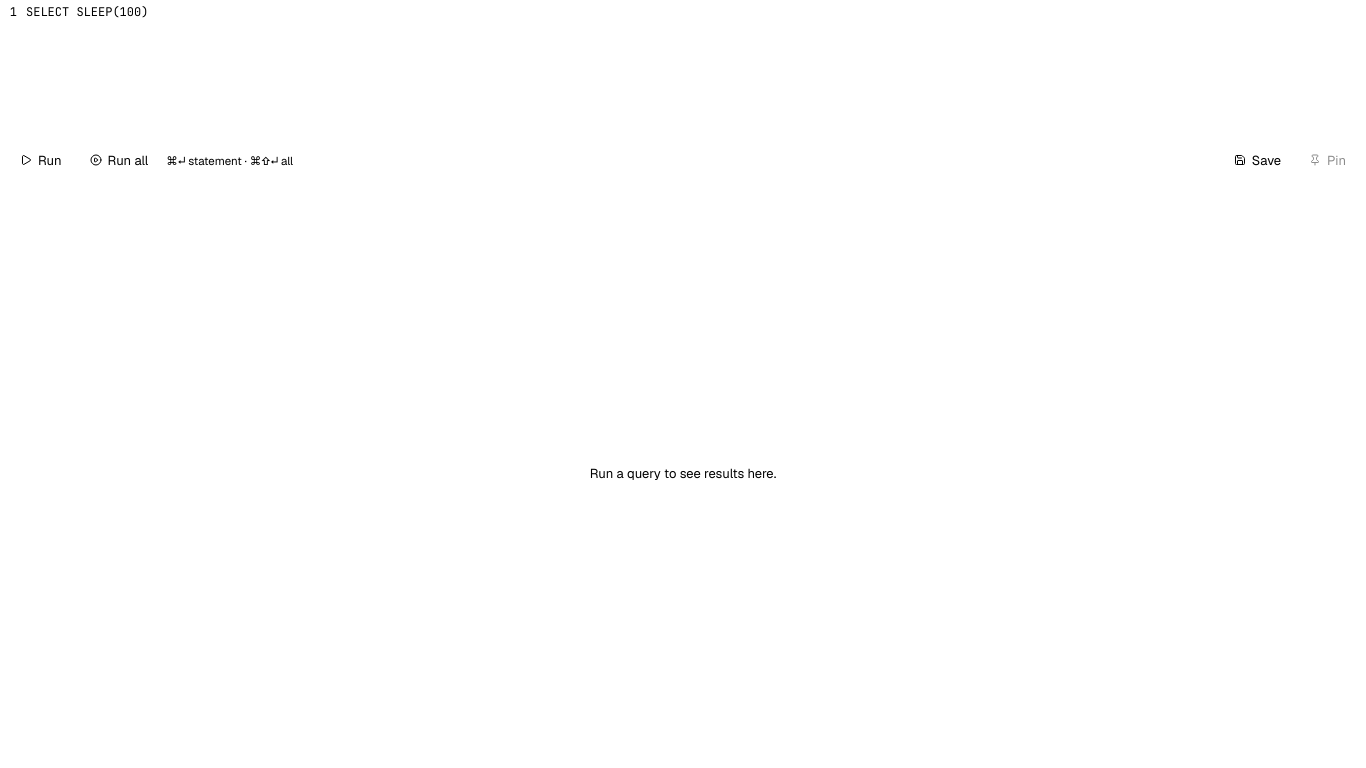
QueryTab › toasts that the session was reset when a timeout reconnected it
Click the button "Run".
click(41, 160)  # box [10, 147, 72, 173]
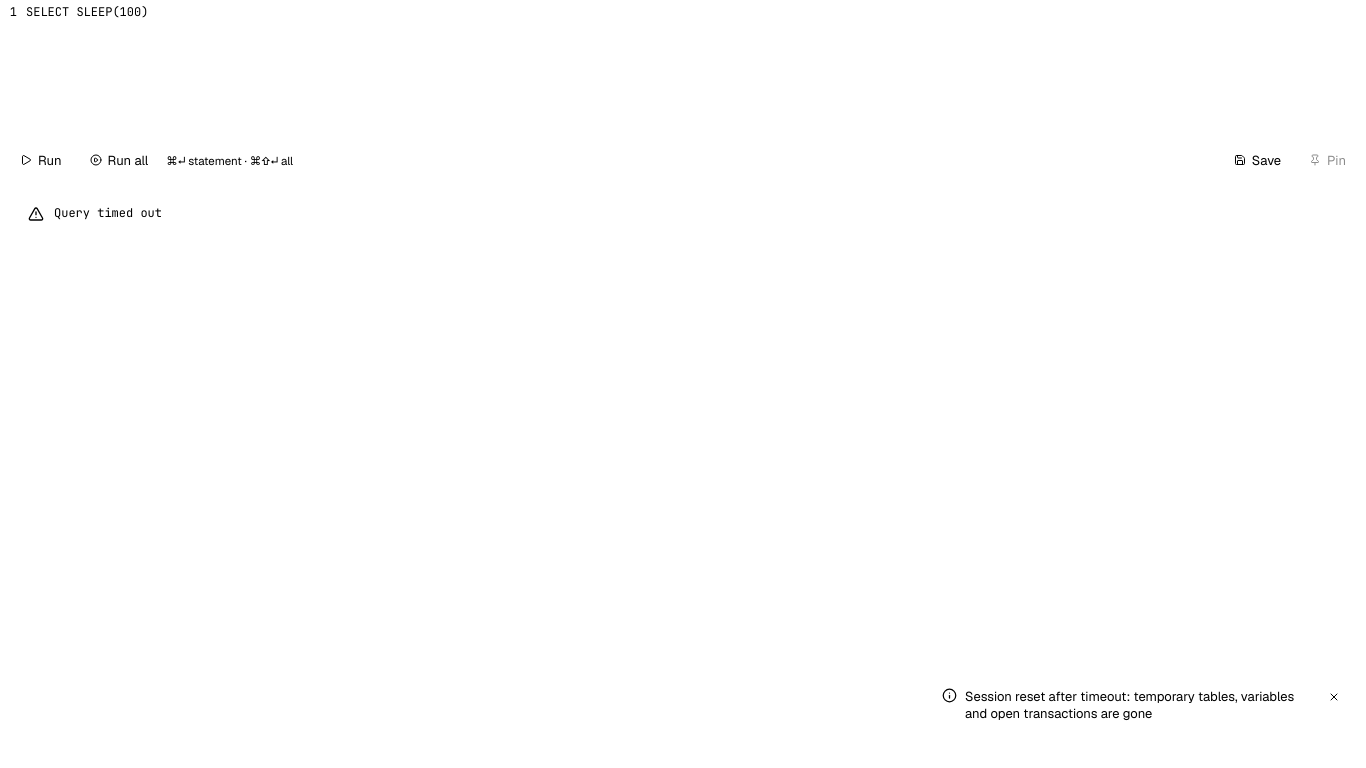
Check: the text "Session reset after timeout: temporary tables, variables and open transactions are gone" is shown, box [965, 688, 1294, 722]
Check: the message "Query timed out" is shown, box [28, 205, 162, 222]
